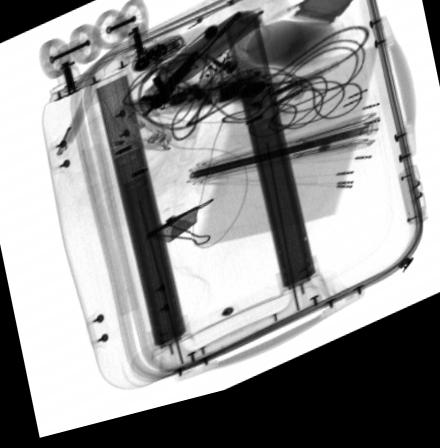Gun: (136, 23, 244, 127)
